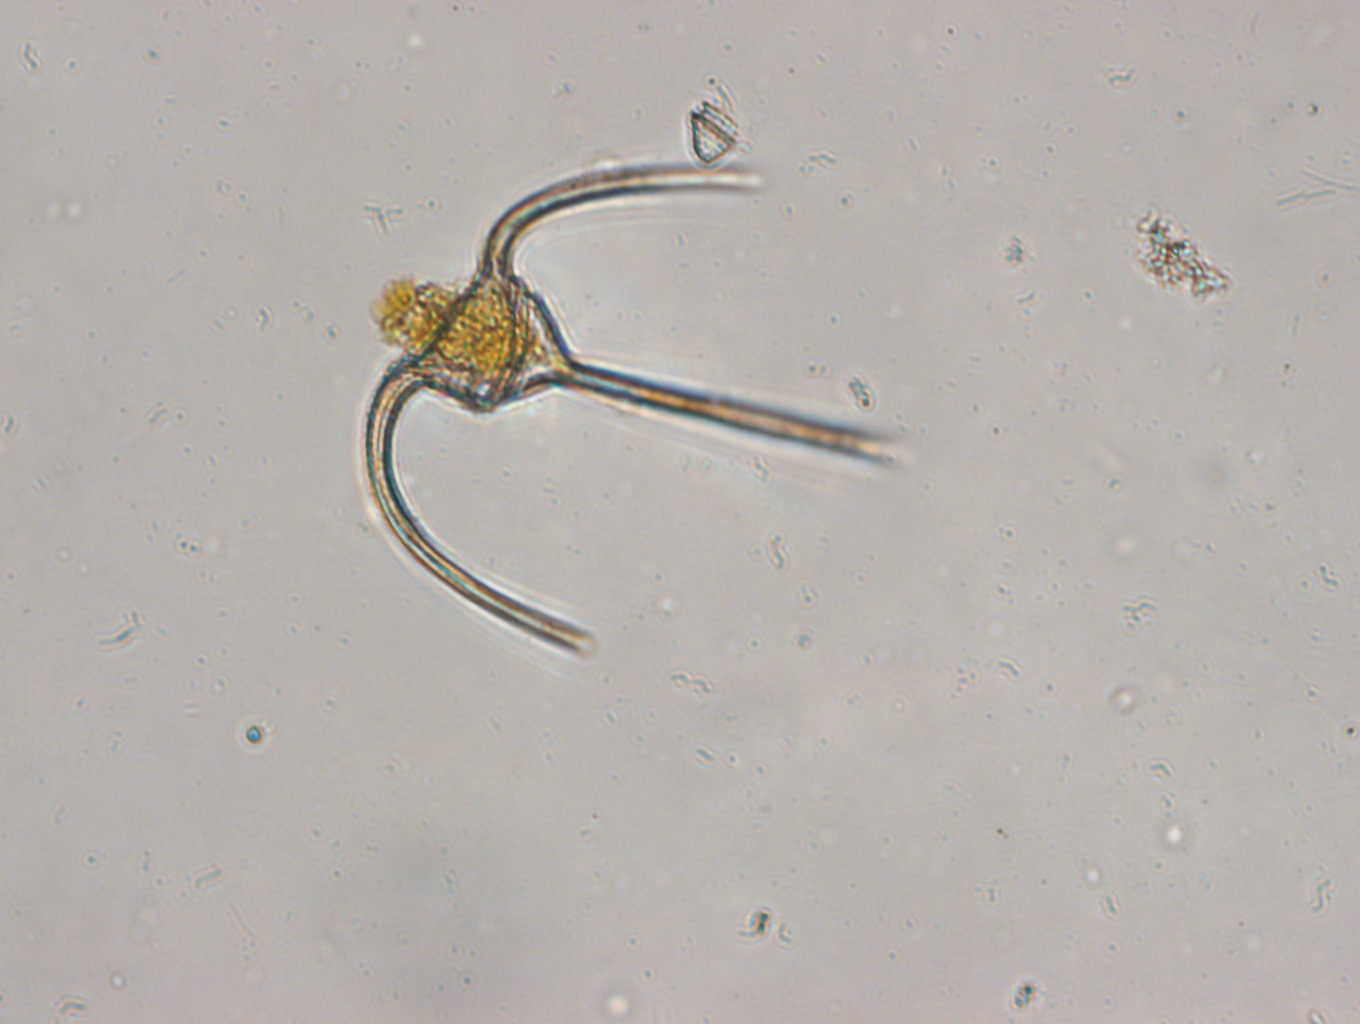ceratium trichoceros: (352, 152, 930, 668)
